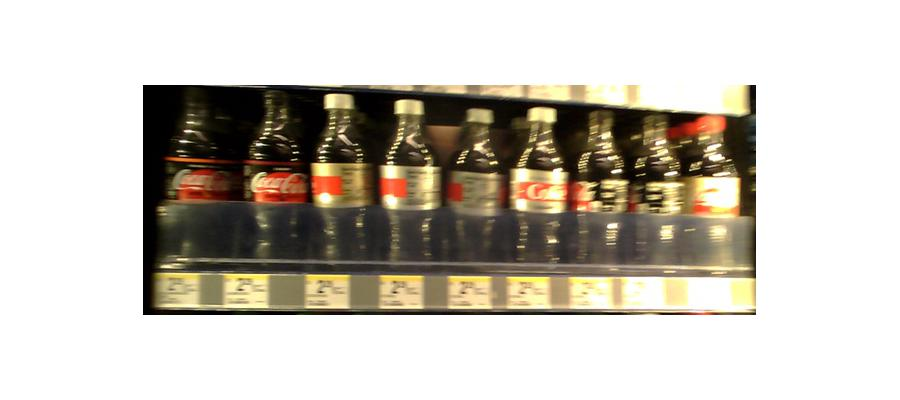bottle: (164, 92, 241, 267), (312, 91, 374, 268), (244, 84, 304, 264), (380, 93, 440, 269), (444, 106, 504, 267), (510, 103, 568, 266), (680, 115, 738, 267), (577, 116, 630, 268), (631, 125, 676, 262)
